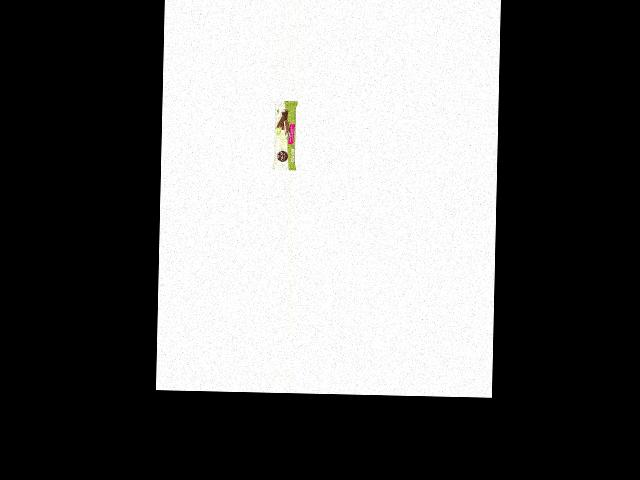chocolate: (270, 99, 300, 170)
